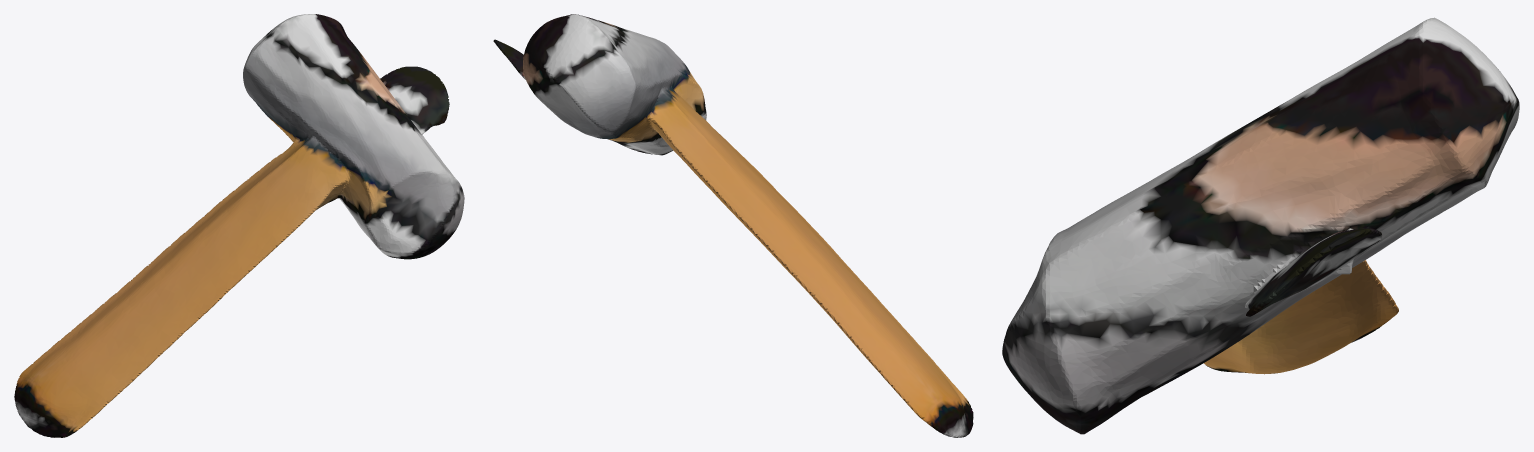
File: stonehamme.glb
3 views of the same model, side by side, from view 1: azimuth 30°, elevation 25°; view 2: azimuth 150°, elevation 25°; view 3: azimuth 270°, elevation 25° (orthographic). The views are drawn at different scales.
Parts seen in each view (by area): view 1: geometry_0; view 2: geometry_0; view 3: geometry_0.
Part boxes in pixels (<box>): geometry_0: <box>14,14,464,437</box>; geometry_0: <box>493,14,973,437</box>; geometry_0: <box>1002,17,1519,434</box>.
Bounding box in the file's own units: 0.8125 × 0.5956 × 0.4388.
